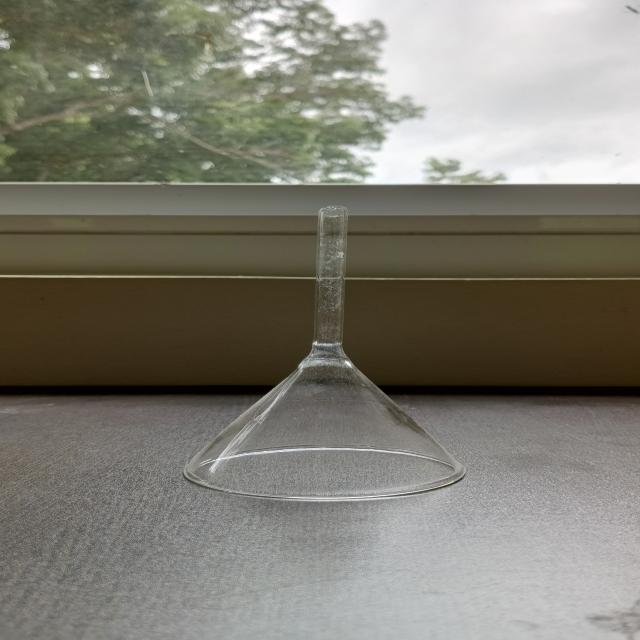funnel: (174, 208, 476, 502)
